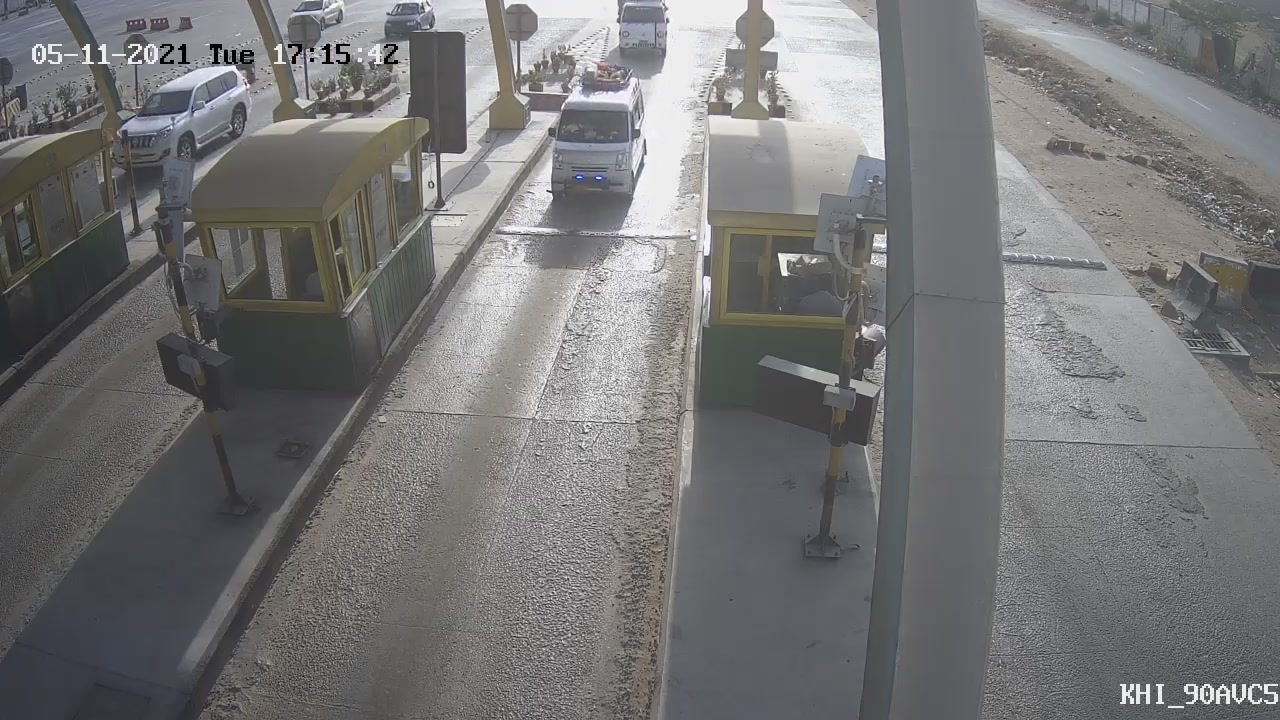F1: (526, 55, 665, 214)
